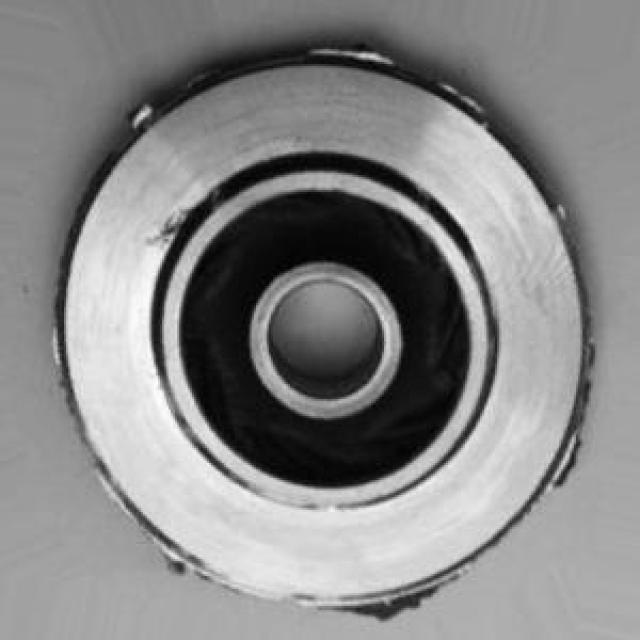Defect: (324, 28, 391, 72)
